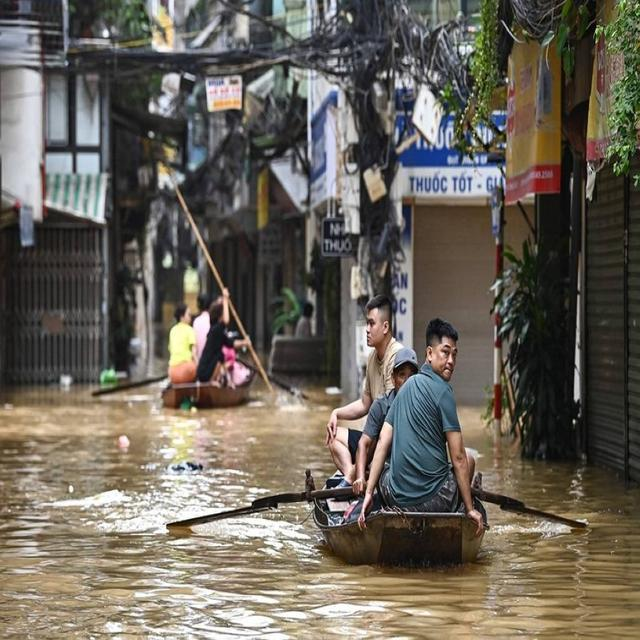Person-RiskLevel3: (338, 297, 483, 532), (150, 272, 269, 406)
